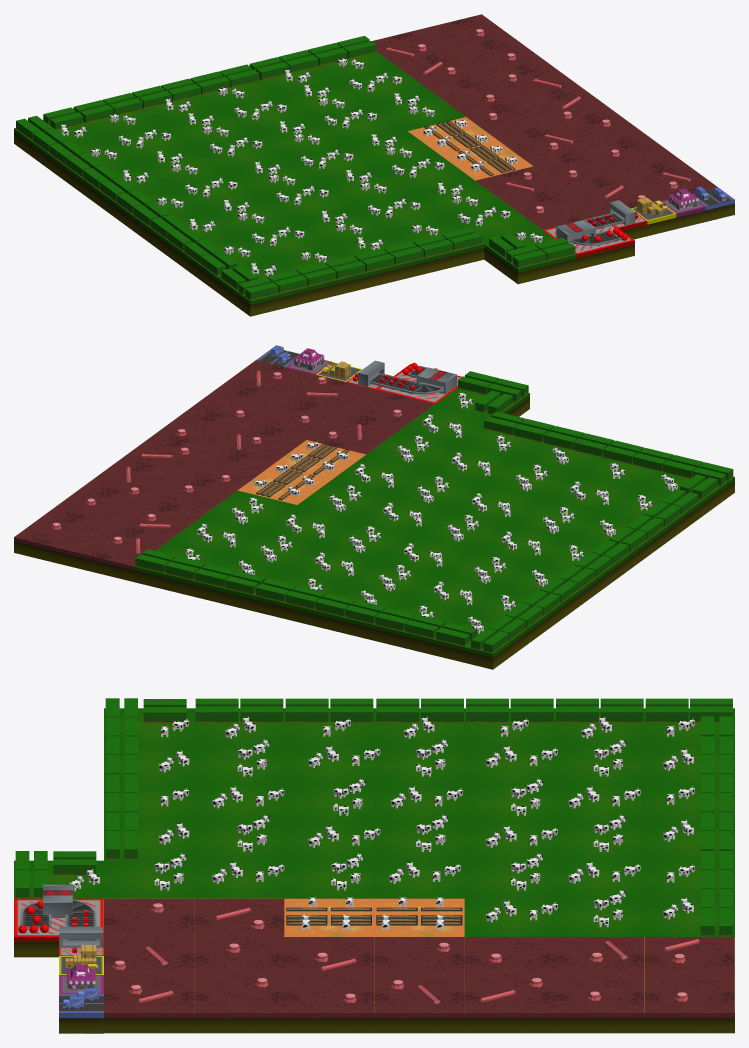
The model's file is beefscene06.gltf.
The picture shows the model from 3 angles, top to bottom: view 1: azimuth 30°, elevation 25°; view 2: azimuth 150°, elevation 25°; view 3: azimuth 270°, elevation 25°; orthographic projection. The views are drawn at different scales.
Visible parts, largest first — view 1: bLand.011, bLand.010, bLand.004, bLand.015, bLand.006, bLand.014, bLand.003, bLand.008, bLand.013, bLand.002, bFarm.038, bLand.005 (+50 smaller); view 2: bLand.015, bLand.001, bLand.006, bLand.008, bLand.010, bLand.004, bLand.003, bLand.014, bLand.011, bLand.012, bLand.009, bLand.005 (+47 smaller); view 3: bLand.014, bLand.011, bLand.010, bLand.015, bLand.013, bLand.009, bLand.012, bLand.008, bLand.004, bLand.006, bLand.003, bLand (+64 smaller).
Boxes of the visible parts, x1,y1,x2,y2 form: bLand.011: (558,113,650,151); bLand.010: (592,138,683,176); bLand.004: (432,78,523,116); bLand.015: (423,14,514,52); bLand.006: (534,152,625,190); bLand.014: (457,39,548,77); bLand.003: (466,102,557,141); bLand.008: (509,191,600,229); bLand.013: (525,88,616,127); bLand.002: (399,53,490,91); bFarm.038: (484,230,576,284); bLand.005: (500,127,591,166); bLand.015: (14,512,107,567); bLand.001: (74,526,167,581); bLand.006: (247,400,340,439); bLand.008: (341,389,434,428); bLand.010: (187,385,280,425); bLand.004: (143,476,236,515); bLand.003: (178,450,271,490); bLand.014: (49,486,142,526); bLand.011: (153,411,245,450); bLand.012: (83,461,176,500); bLand.009: (221,360,315,399); bLand.005: (212,425,305,464); bLand.014: (554,975,644,1033); bLand.011: (284,975,374,1033); bLand.010: (194,975,284,1033); bLand.015: (645,975,734,1033); bLand.013: (374,975,464,1033); bLand.009: (104,975,194,1033); bLand.012: (464,975,554,1033); bLand.008: (104,898,194,936); bLand.004: (464,937,554,974); bLand.006: (194,937,284,974); bLand.003: (374,937,464,974); bLand: (194,898,284,936).
Bounding box in the file's own units: 16 × 0.9425 × 16.
288 materials, 288 textured.
